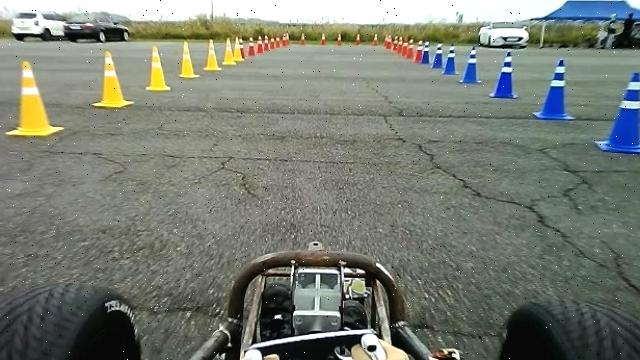blue cone: (595, 71, 640, 154), (533, 58, 578, 120), (490, 50, 520, 98), (459, 45, 483, 83), (443, 43, 459, 75), (431, 42, 445, 68), (421, 40, 431, 63)
yellow cone: (5, 59, 64, 136), (92, 50, 134, 107), (146, 44, 172, 90), (178, 40, 200, 78), (204, 37, 222, 71), (222, 36, 237, 64)
